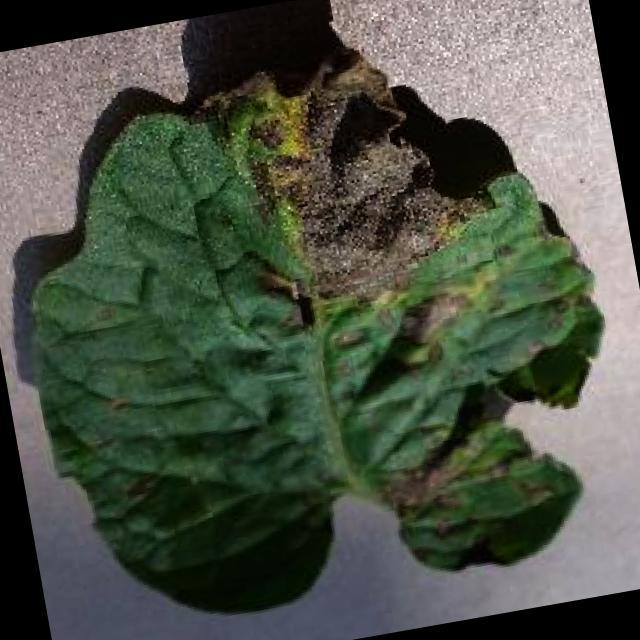Tomato Early blight leaf: (0, 15, 638, 640)
